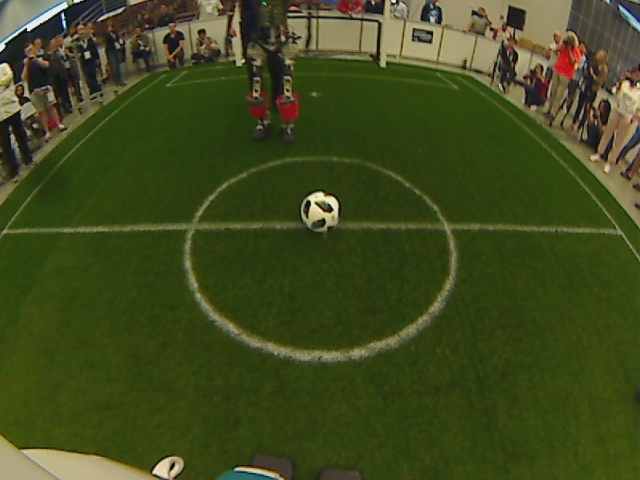ball: (296, 188, 345, 236)
